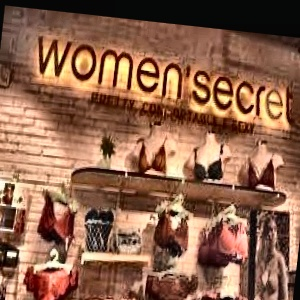women_secret: (284, 64, 300, 87)
